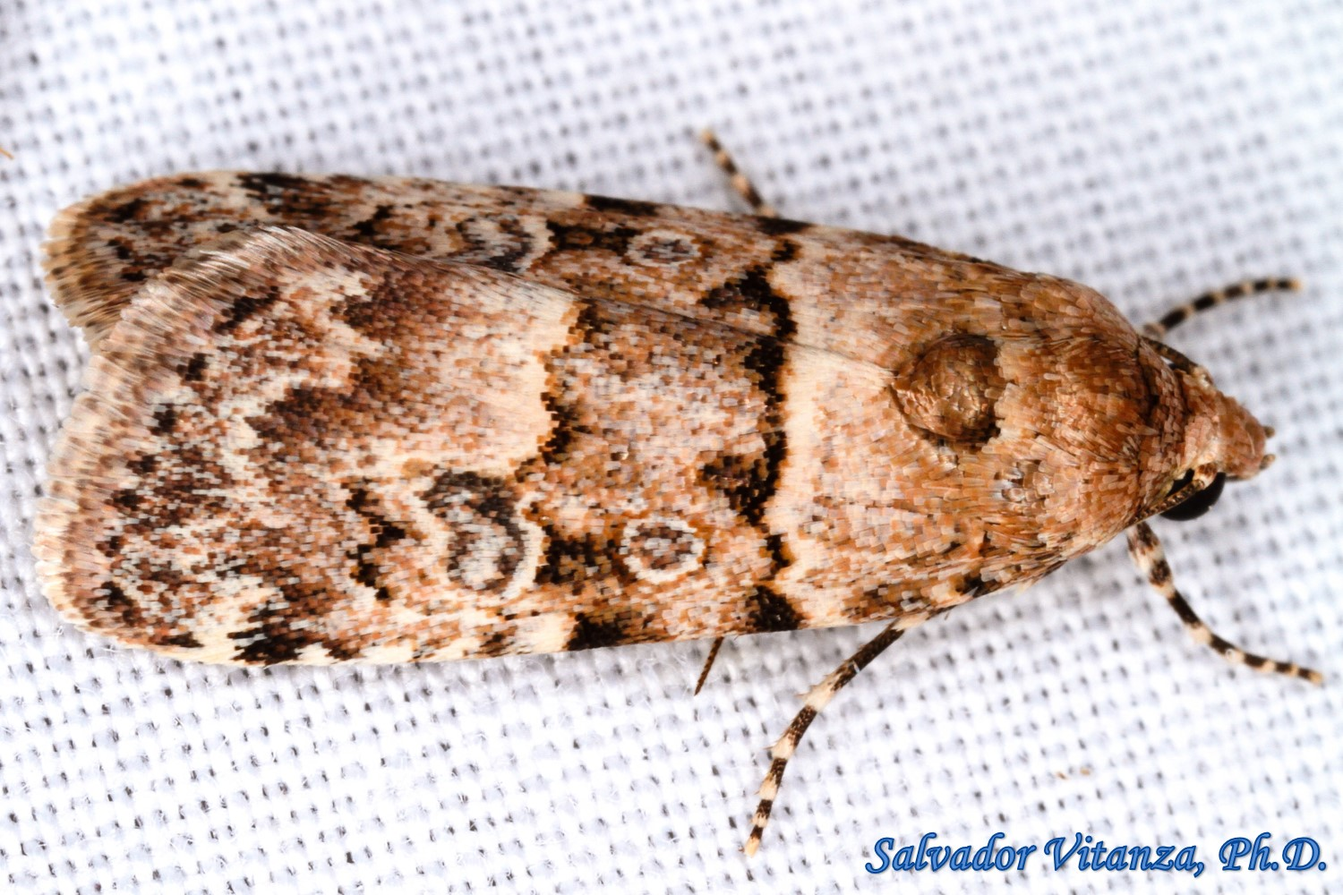Noctuidae: (46, 126, 1343, 848)
